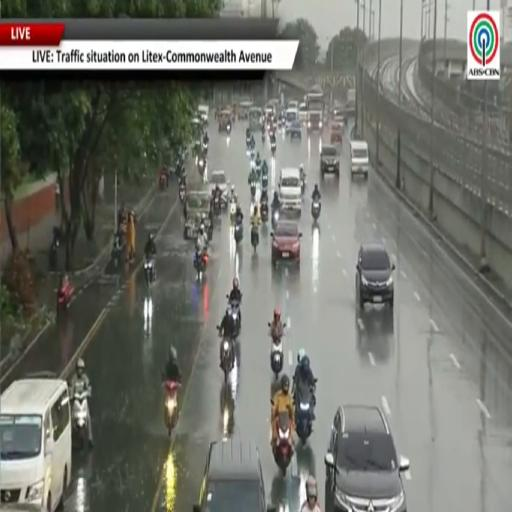bus: (305, 86, 324, 116)
car: (325, 406, 409, 511), (193, 438, 275, 511), (356, 243, 395, 309), (271, 220, 302, 265), (184, 190, 212, 239), (278, 168, 302, 215), (209, 170, 229, 207), (351, 140, 369, 179), (321, 146, 339, 178), (218, 109, 232, 134), (307, 112, 323, 133), (249, 107, 262, 131), (287, 120, 302, 140), (238, 101, 253, 120), (330, 122, 343, 143), (198, 105, 209, 124), (299, 103, 307, 124), (288, 101, 298, 109)
motorcycle: (273, 412, 293, 473), (295, 383, 314, 443), (163, 381, 180, 436), (72, 390, 88, 446), (221, 339, 234, 383), (57, 282, 73, 315), (227, 301, 241, 338), (111, 231, 124, 268), (49, 227, 60, 270), (271, 340, 283, 379), (194, 249, 208, 281), (144, 255, 155, 285), (268, 323, 281, 344), (234, 222, 242, 245), (251, 226, 258, 251), (213, 196, 221, 216), (312, 201, 320, 221), (198, 157, 206, 175), (261, 202, 268, 222), (230, 200, 236, 223), (159, 173, 167, 190), (272, 210, 279, 229), (250, 182, 256, 199), (179, 185, 185, 202), (255, 162, 261, 179), (301, 175, 306, 195), (270, 140, 276, 156), (262, 173, 268, 189), (246, 137, 250, 155), (203, 141, 208, 154), (227, 122, 232, 135), (250, 146, 255, 159), (262, 131, 265, 143)
truck: (346, 89, 356, 108)
